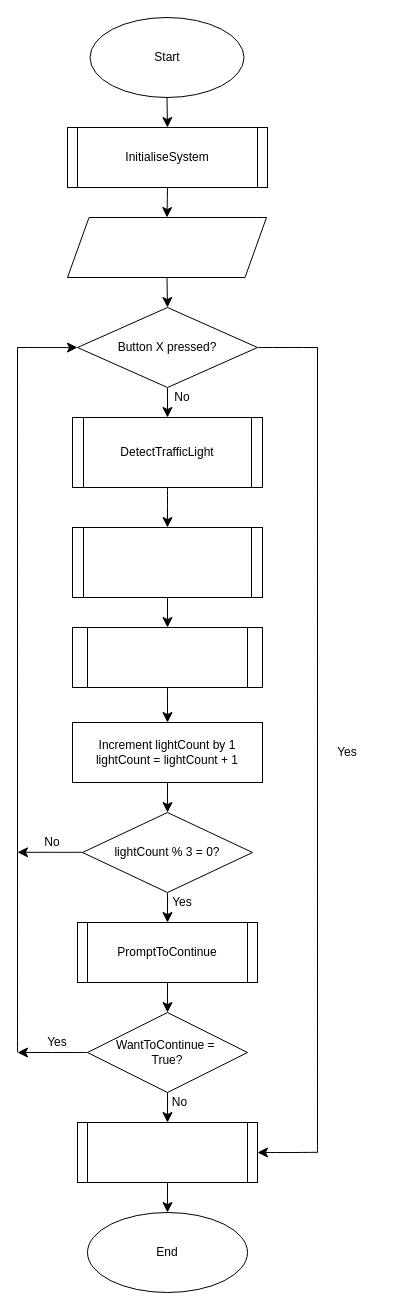
Image size: 395x1310. Some labels were removed from this diagram. Here are the shapes that lost their labels. From the top down, the box of each, then its label:
(66, 216, 266, 278): Output "Press X at any time to terminate program"
(72, 526, 262, 598): Process Traffic Light
(72, 626, 262, 688): TrafficLightResponse
(76, 1122, 258, 1182): CreateAndDisplayLog
